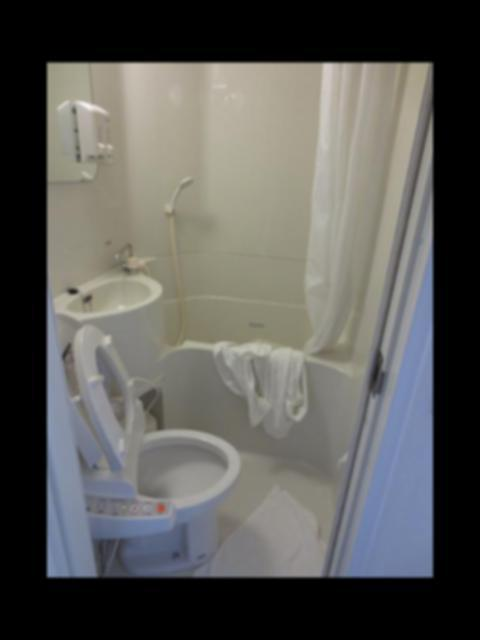Lavamanos: (52, 251, 161, 384)
Sanitario: (47, 317, 243, 576)
